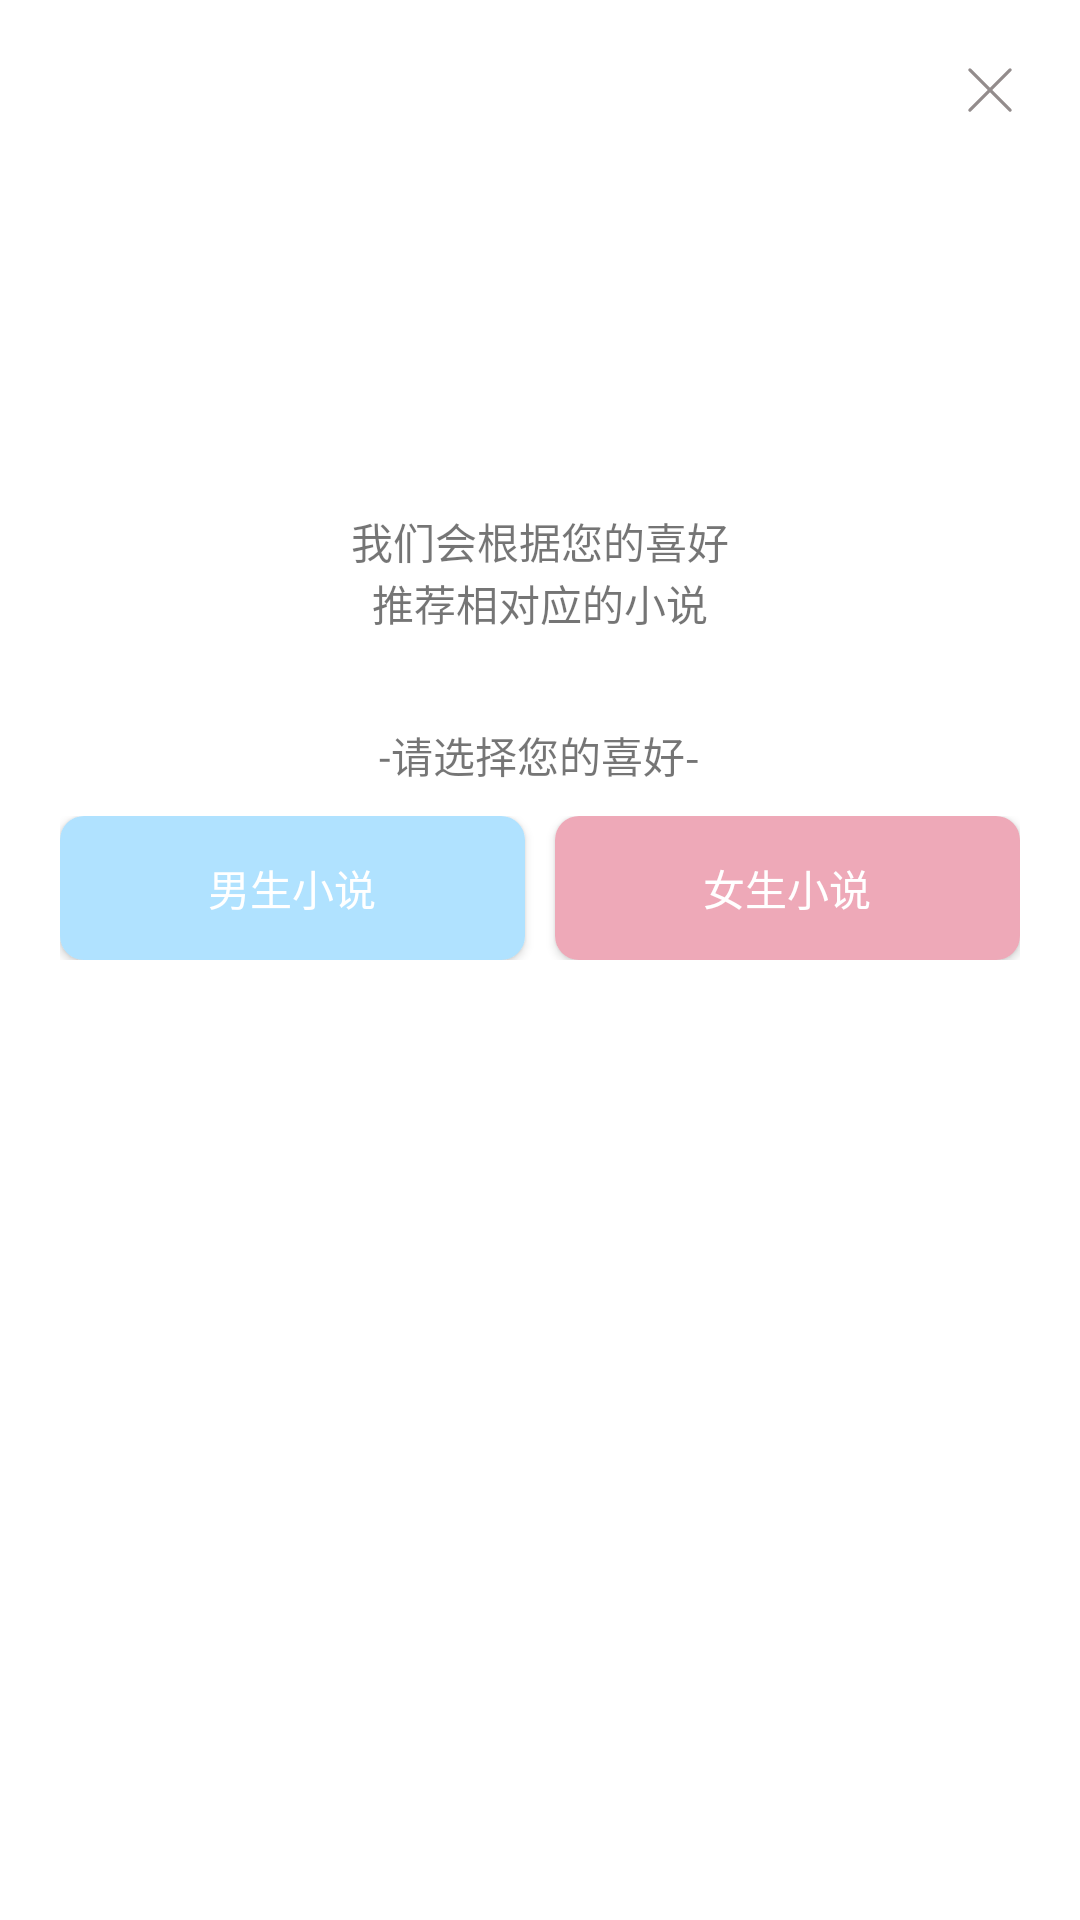

Icons on this 1080x1920 Android screen, each with its box as [x1, y1, x2, y2]:
gender close: [968, 68, 1012, 112]
